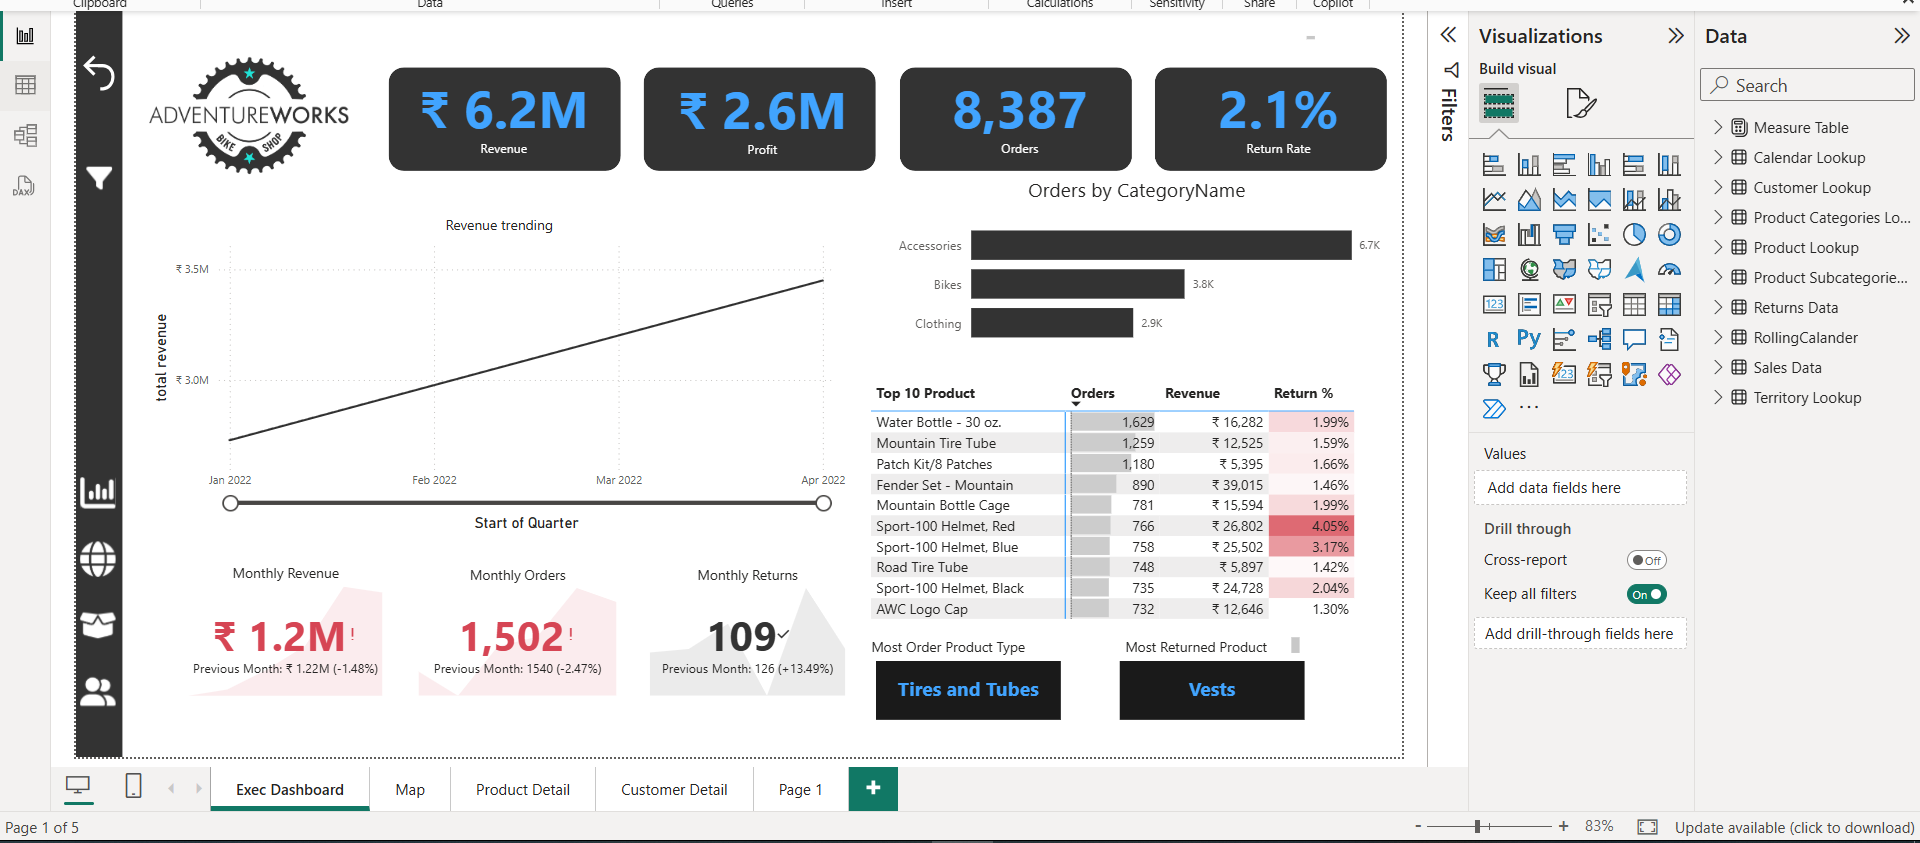

This screenshot's page, from the dashboard's own definition file:
{"tool":"powerbi","page":{"name":"Exec Dashboard","canvas":[1280,720],"ordinal":0},"visuals":[{"type":"card","fields":{"Values":["Measure Table.sumx total revenue"]},"box":[293.2,19.3,240.1,161.7],"z":0,"group":"g2"},{"type":"image","title":"AW Logo","box":[44.6,31.4,246.1,138.7],"z":0},{"type":"group","id":"g1","title":"KPI Backgrounds","box":[301.6,54.1,963.9,100.1],"z":0,"group":"g3"},{"type":"shape","box":[301.6,54.1,224.4,100.1],"z":0,"group":"g1"},{"type":"actionButton","box":[0,571.9,67.6,42.2],"z":0,"group":"g4"},{"type":"shape","title":"Left Nav Background","box":[0,0,45,720.2],"z":1000},{"type":"group","id":"g2","title":"KPI Values","box":[293.2,19.3,987.3,162.6],"z":1000,"group":"g3"},{"type":"card","fields":{"Values":["Measure Table.Total Profit"]},"box":[542.8,19.3,239.6,162.6],"z":1000,"group":"g2"},{"type":"shape","box":[1041.1,54.1,224.4,100.1],"z":1000,"group":"g1"},{"type":"actionButton","box":[0,444,67.6,42.2],"z":1000,"group":"g4"},{"type":"group","id":"g3","title":"KPIs","box":[293.2,19.3,986.9,162.9],"z":2000},{"type":"card","fields":{"Values":["Measure Table.Total Orders"]},"box":[791.8,19.3,239.6,161.4],"z":2000,"group":"g2"},{"type":"shape","box":[794.6,54.1,224.4,100.1],"z":2000,"group":"g1"},{"type":"actionButton","box":[0,635.8,67.6,42.2],"z":2000,"group":"g4"},{"type":"card","fields":{"Values":["Measure Table.Return Rate"]},"box":[1040.9,19.3,239.6,161.4],"z":3000,"group":"g2"},{"type":"shape","box":[548.1,54.1,224.4,100.1],"z":3000,"group":"g1"},{"type":"lineChart","title":"Revenue trending","fields":{"Y":["Measure Table.sumx total revenue"],"Category":["Calendar Lookup.Start of Quarter","Calendar Lookup.Start of Month","Calendar Lookup.Year"]},"box":[68.8,196.6,679.2,310.1],"z":3000},{"type":"actionButton","box":[0,507.9,67.6,42.2],"z":3000,"group":"g4"},{"type":"kpi","title":"Monthly Revenue","fields":{"Indicator":["Measure Table.sumx total revenue"],"TrendLine":["Calendar Lookup.Start of Month"],"Goal":["Measure Table.Previous Month Revenue"]},"box":[104.3,533.8,197.4,132.8],"z":4000},{"type":"kpi","title":"Monthly Orders","fields":{"TrendLine":["Calendar Lookup.Start of Month"],"Indicator":["Measure Table.Total Orders"],"Goal":["Measure Table.Previous Month orders"]},"box":[325.2,535,201.1,131.6],"z":5000},{"type":"kpi","title":"Monthly Returns","fields":{"TrendLine":["Calendar Lookup.Start of Month"],"Indicator":["Measure Table.Total Returns"],"Goal":["Measure Table.Previous Month Returns"]},"box":[548.6,535,198.6,131.6],"z":6000},{"type":"clusteredBarChart","title":"Orders by CategoryName","fields":{"Category":["Product Categories Lookup.CategoryName"],"Y":["Measure Table.Total Orders"]},"box":[783.8,159.8,479.4,177.6],"z":7000},{"type":"pivotTable","fields":{"Rows":["Product Lookup.ProductName"],"Values":["Measure Table.Total Orders","Measure Table.sumx total revenue","Measure Table.Return Rate"]},"box":[762.3,352.6,514.9,247.3],"z":8000},{"type":"card","fields":{"Values":["Min(Product Subcategories Lookups.SubcategoryName)"]},"box":[772.1,627.3,178.6,56.7],"z":9000},{"type":"textbox","box":[925.9,19,275.2,12.7],"z":10000},{"type":"textbox","box":[1007.4,599.6,178.6,27.7],"z":11000},{"type":"card","fields":{"Values":["Min(Product Subcategories Lookups.SubcategoryName)"]},"box":[1007.4,627.3,178.6,56.7],"z":12000},{"type":"textbox","box":[762.5,599.6,178.6,27.7],"z":13000},{"type":"group","id":"g4","title":"Navigation Buttons","box":[0,444,67.6,234],"z":14000},{"type":"actionButton","box":[0,32.6,44.6,54.3],"z":15000},{"type":"actionButton","box":[6,140,33.1,42.1],"z":16000}]}

Visuals, with their boxes on the page's 1280x720 design canvas (x1, y1, x2, y2). These are canvas units, not pixel positions in the 1920x843 screenshot, which may show the page scaled, cropped or inside an application window:
card - Measure Table.sumx total revenue: bbox(293, 19, 533, 181)
"AW Logo" image: bbox(45, 31, 291, 170)
"KPI Backgrounds" group: bbox(302, 54, 1266, 154)
shape: bbox(302, 54, 526, 154)
actionButton: bbox(0, 572, 68, 614)
"Left Nav Background" shape: bbox(0, 0, 45, 720)
"KPI Values" group: bbox(293, 19, 1280, 182)
card - Measure Table.Total Profit: bbox(543, 19, 782, 182)
shape: bbox(1041, 54, 1266, 154)
actionButton: bbox(0, 444, 68, 486)
"KPIs" group: bbox(293, 19, 1280, 182)
card - Measure Table.Total Orders: bbox(792, 19, 1031, 181)
shape: bbox(795, 54, 1019, 154)
actionButton: bbox(0, 636, 68, 678)
card - Measure Table.Return Rate: bbox(1041, 19, 1280, 181)
shape: bbox(548, 54, 772, 154)
"Revenue trending" lineChart: bbox(69, 197, 748, 507)
actionButton: bbox(0, 508, 68, 550)
"Monthly Revenue" kpi: bbox(104, 534, 302, 667)
"Monthly Orders" kpi: bbox(325, 535, 526, 667)
"Monthly Returns" kpi: bbox(549, 535, 747, 667)
"Orders by CategoryName" clusteredBarChart: bbox(784, 160, 1263, 337)
pivotTable - Product Lookup.ProductName x Measure Table.Total Orders: bbox(762, 353, 1277, 600)
card - Min(Product Subcategories Lookups.SubcategoryName): bbox(772, 627, 951, 684)
textbox: bbox(926, 19, 1201, 32)
textbox: bbox(1007, 600, 1186, 627)
card - Min(Product Subcategories Lookups.SubcategoryName): bbox(1007, 627, 1186, 684)
textbox: bbox(762, 600, 941, 627)
"Navigation Buttons" group: bbox(0, 444, 68, 678)
actionButton: bbox(0, 33, 45, 87)
actionButton: bbox(6, 140, 39, 182)
